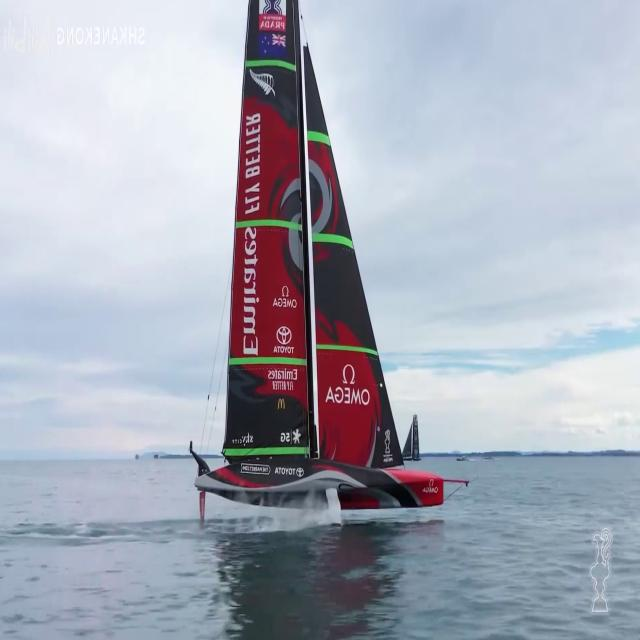sailboat: (188, 0, 476, 524)
